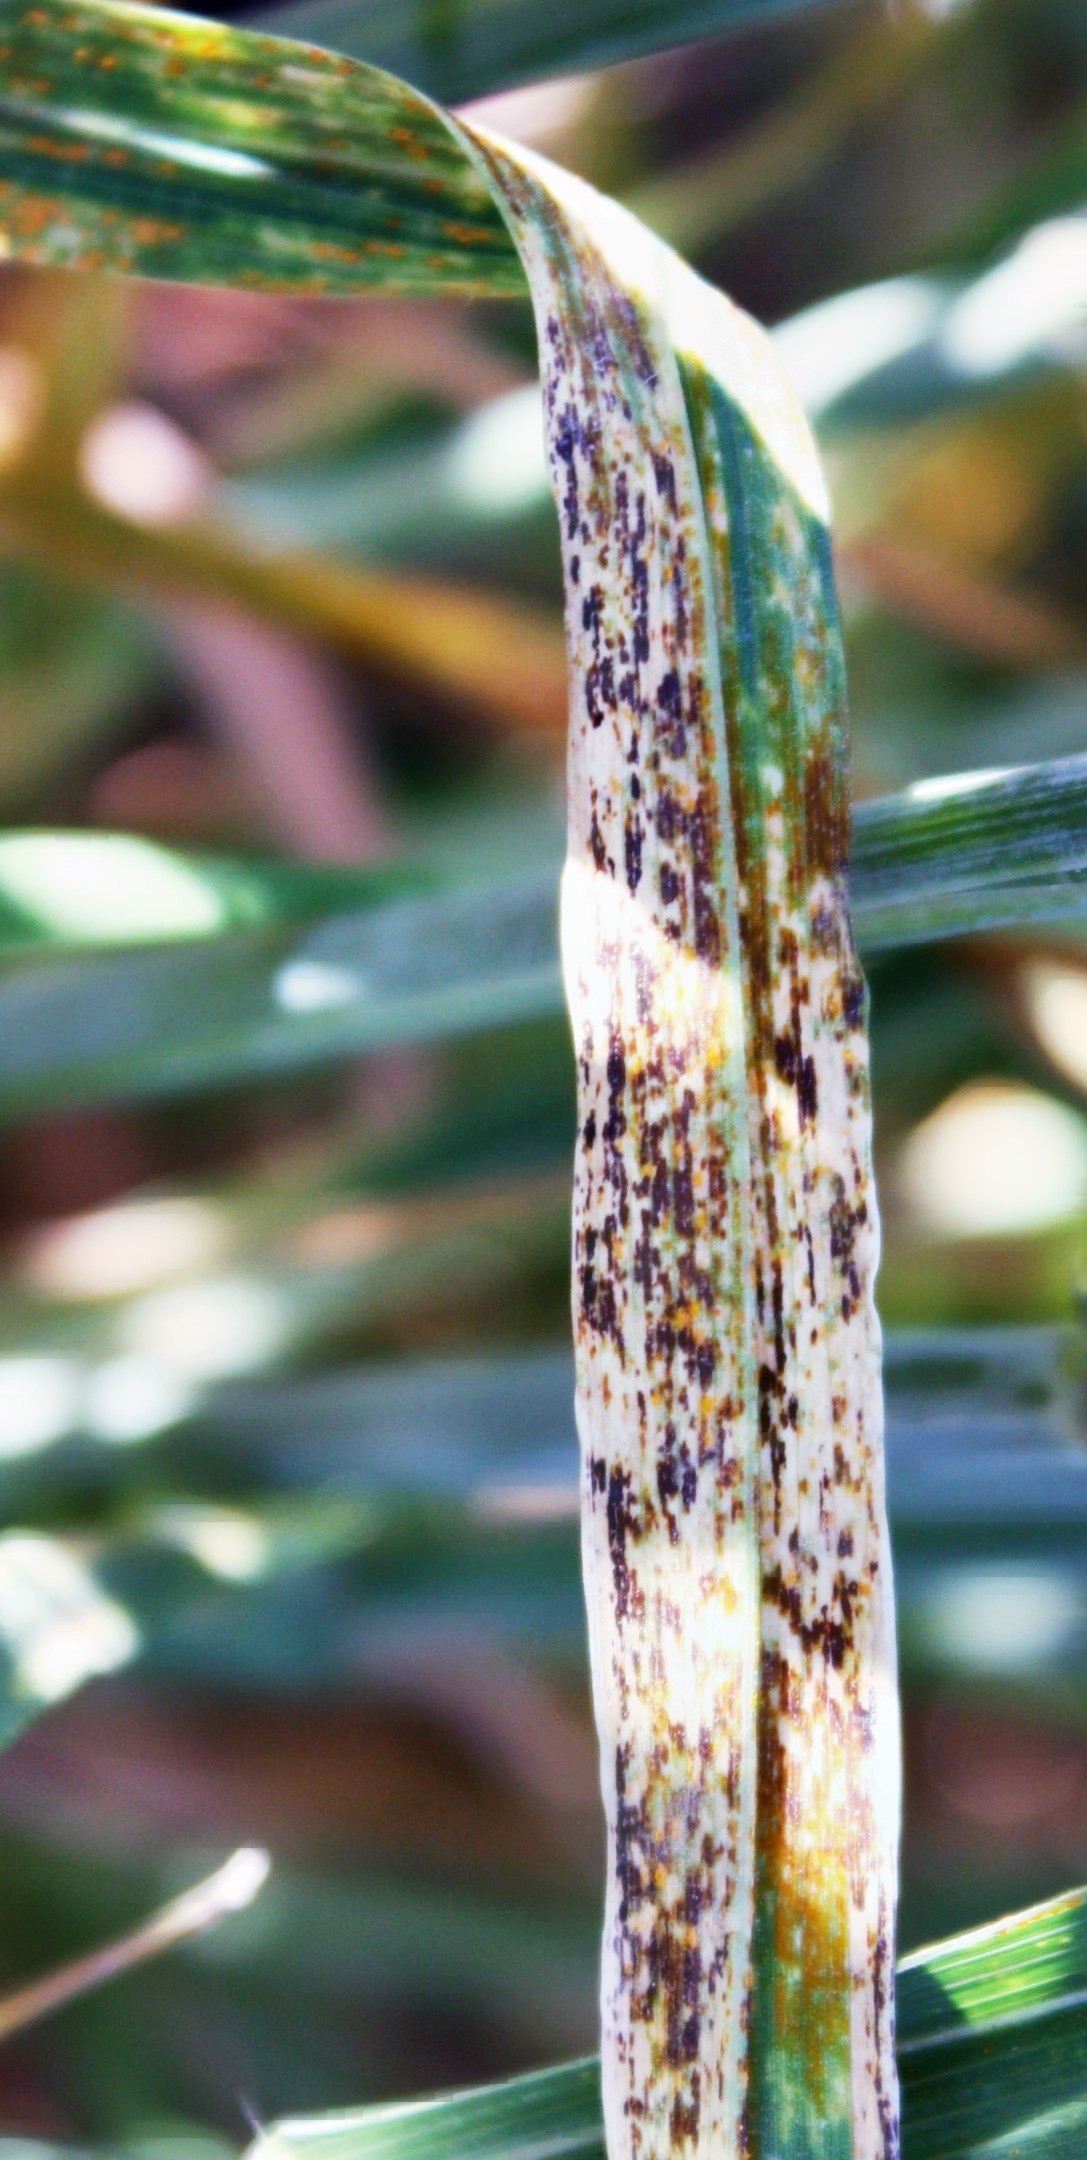Leaf Rust: (505, 445, 933, 1984)
